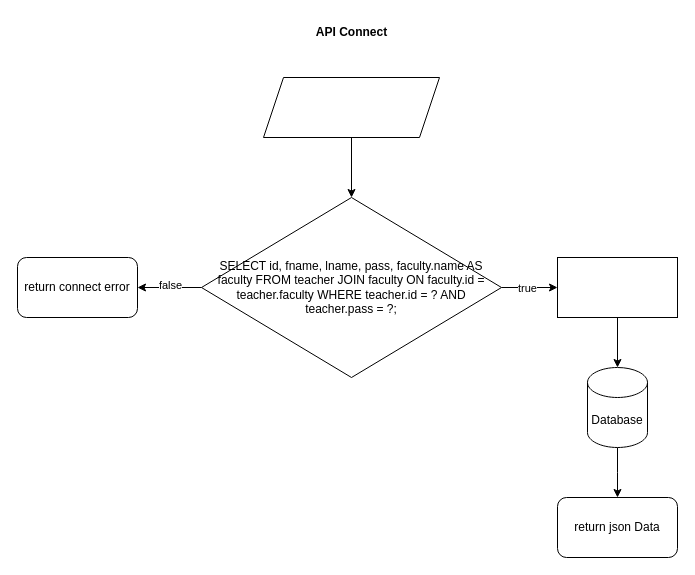
The diagram is 695 pixels wide and 575 high, and some of its shapes have lost their labels. Here are the shapes that lost their labels. From the top down, the centre of each, then its label:
At (351,107): "Input ID, Password, LineID".
At (617,287): "match with LineID".
